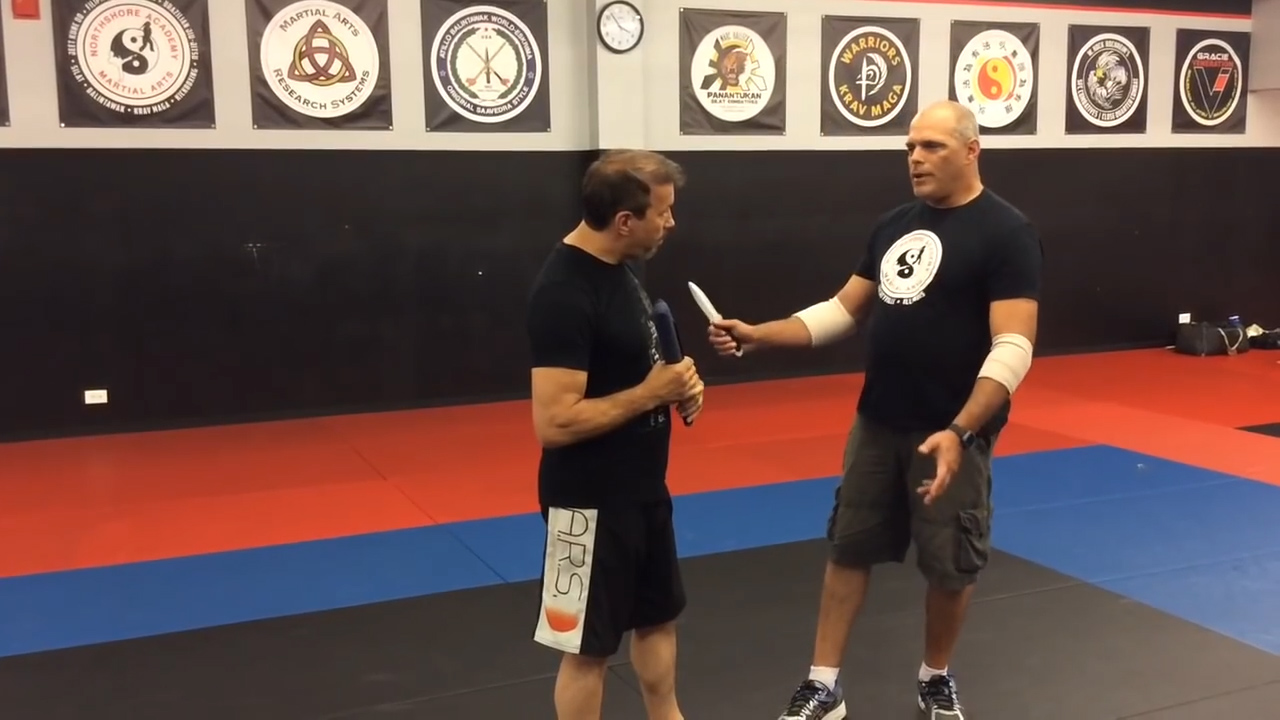knife: (683, 273, 747, 362)
